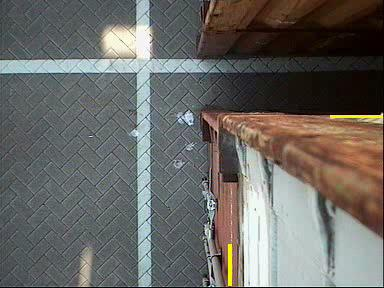groundmarker_2: (80, 59, 164, 126)
